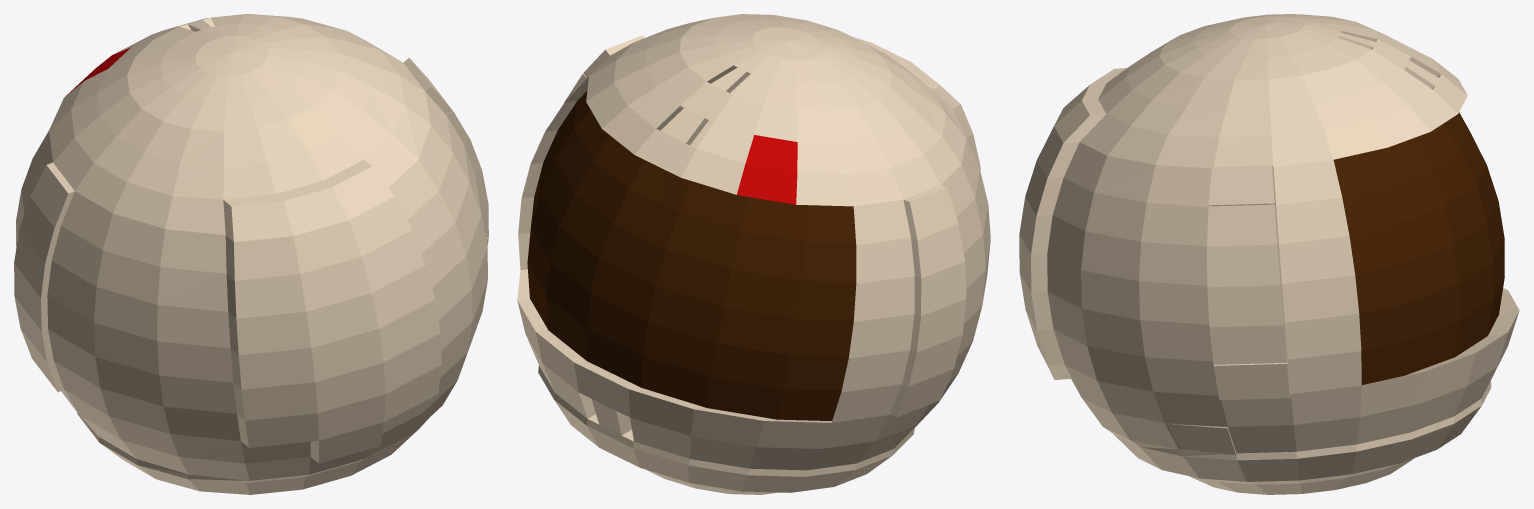
The model's file is Helmet.fbx.
3 renders of one model, left to right at view 1: azimuth 30°, elevation 25°; view 2: azimuth 150°, elevation 25°; view 3: azimuth 270°, elevation 25°, orthographic.
Parts seen in each view (by area): view 1: pSphere9; view 2: pSphere9; view 3: pSphere9.
Boxes of the visible parts, left/top/right/bottom form: pSphere9: left=14, top=14, right=488, bottom=494; pSphere9: left=517, top=14, right=990, bottom=494; pSphere9: left=1019, top=14, right=1519, bottom=494.
Size of the model in its own units: 2.07 by 1.96 by 2.08.
